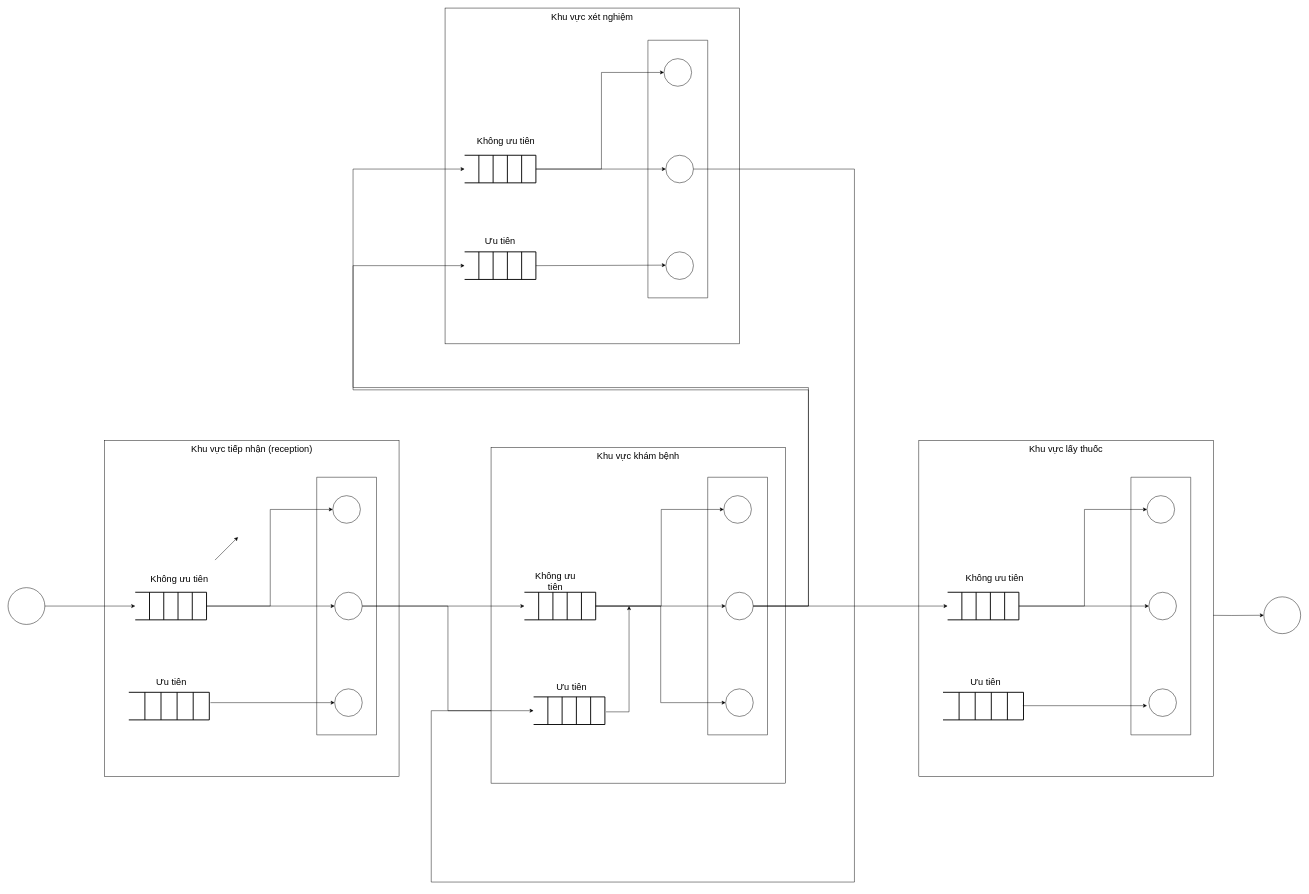
The diagram is 1309 pixels wide and 894 high, and some of its shapes have lost their labels. Each missing label, with the box of its shape:
Entrance: (8, 587, 45, 624)
EXIT: (1263, 596, 1301, 634)
